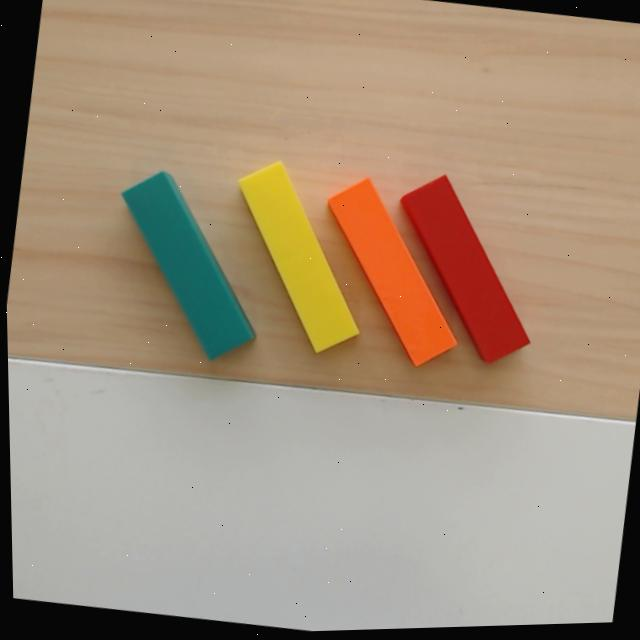Balok-Hijau-1002525: (119, 168, 256, 361)
Balok-Jingga-1002525: (324, 176, 458, 367)
Balok-Kuning-1002525: (235, 159, 360, 353)
Balok-Merah-1002525: (397, 174, 530, 366)
